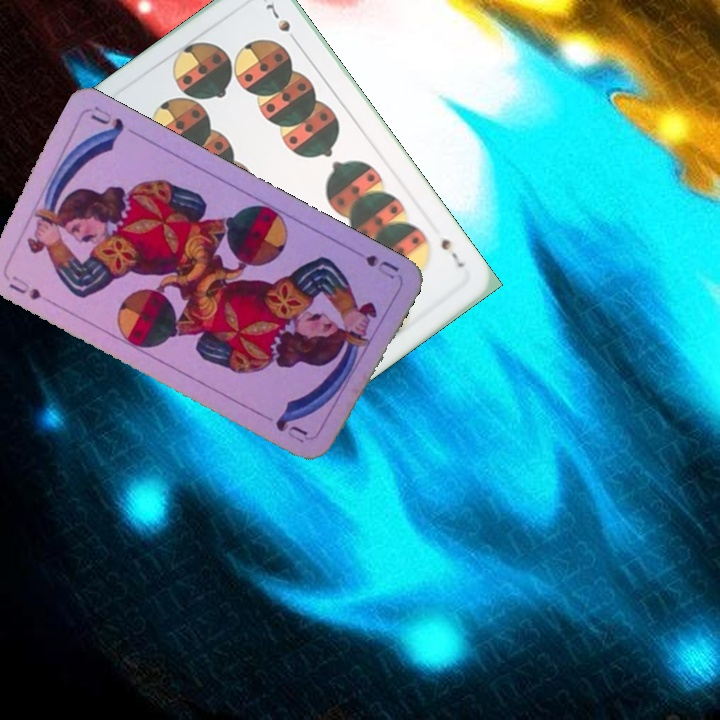S7: (436, 235, 468, 270)
SU: (5, 271, 55, 305), (361, 251, 402, 282)
